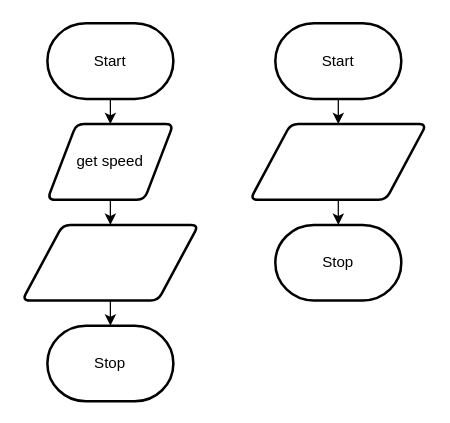
The diagram is 450 pixels wide and 423 high, and some of its shapes have lost their labels. The shapes that lost their labels are listed below. From the top down, each one's centre as x and y in pixels, then its label:
At point (337, 161): "return this.speed".
At point (109, 262): "this.speed = speed".
